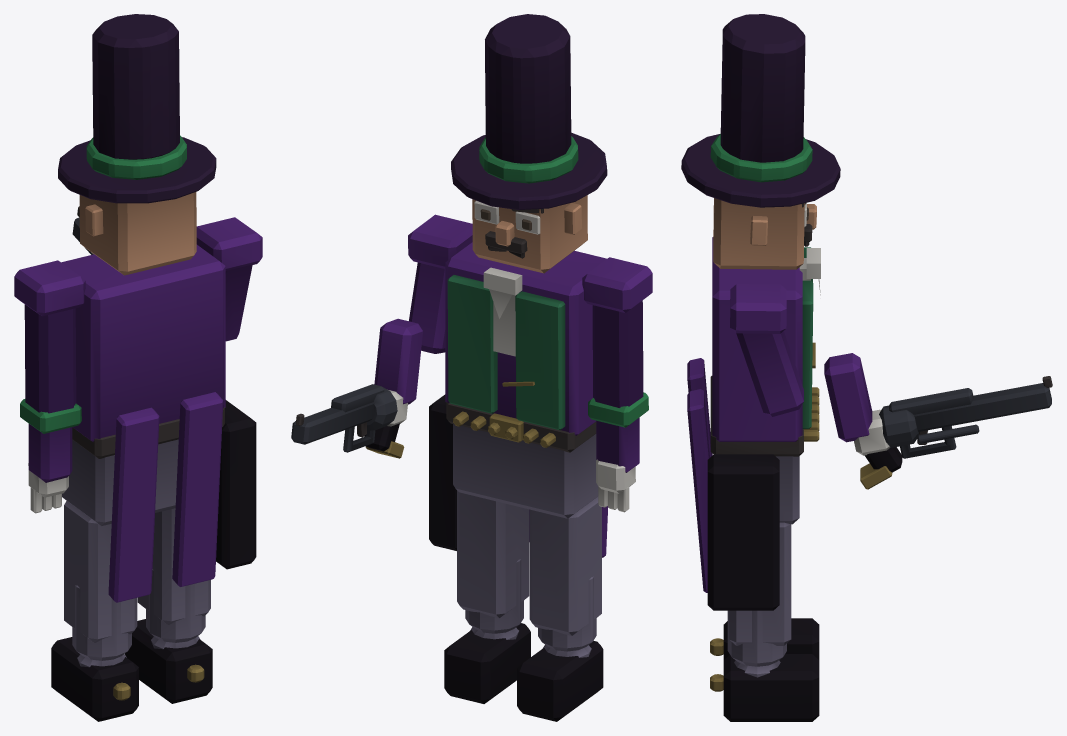
File: cowboy_dandy.glb
3 views of the same model, side by side, from view 1: azimuth 30°, elevation 25°; view 2: azimuth 150°, elevation 25°; view 3: azimuth 270°, elevation 25° (orthographic).
Parts seen in each view (by area): view 1: O_Torso, O_Hat, O_Pelvis, O_Sleeve_L, O_CoatTail_L, O_CoatTail_R, O_Leg_L, O_Head, O_Leg_R, O_Shin_L, O_Shin_R, O_Sleeve_R (+1 smaller); view 2: O_Torso, O_Hat, O_Pelvis, O_Leg_L, O_Leg_R, O_Sleeve_L, O_Head, O_Shin_L, O_Shin_R, O_Frame, O_Fore_R, O_Sleeve_R (+1 smaller); view 3: O_Hat, O_Pelvis, O_Torso, O_Frame, O_Head, O_Shin_R, O_Leg_R, O_Fore_R, O_Sleeve_R, O_CoatTail_R, O_Shin_L, O_CoatTail_L.
Part boxes in pixels (<box>): O_Torso: <box>14,217,262,441</box>; O_Hat: <box>58,14,216,203</box>; O_Pelvis: <box>62,400,256,569</box>; O_Sleeve_L: <box>24,304,76,513</box>; O_CoatTail_L: <box>108,407,159,602</box>; O_CoatTail_R: <box>172,392,223,586</box>; O_Leg_L: <box>64,501,137,660</box>; O_Head: <box>79,192,196,275</box>; O_Leg_R: <box>137,508,210,642</box>; O_Shin_L: <box>51,637,138,721</box>; O_Shin_R: <box>125,619,212,703</box>; O_Sleeve_R: <box>225,265,252,341</box>; O_Torso: <box>408,214,652,435</box>; O_Hat: <box>451,14,607,209</box>; O_Pelvis: <box>429,394,598,550</box>; O_Leg_L: <box>529,496,601,651</box>; O_Leg_R: <box>457,490,529,633</box>; O_Sleeve_L: <box>592,300,643,512</box>; O_Head: <box>472,195,587,273</box>; O_Shin_L: <box>517,640,603,721</box>; O_Shin_R: <box>444,623,530,703</box>; O_Frame: <box>291,384,404,458</box>; O_Fore_R: <box>374,318,422,426</box>; O_Sleeve_R: <box>409,262,445,353</box>; O_Hat: <box>681,14,840,207</box>; O_Pelvis: <box>707,376,819,610</box>; O_Torso: <box>712,237,820,441</box>; O_Frame: <box>860,376,1052,489</box>; O_Head: <box>713,198,816,269</box>; O_Shin_R: <box>710,654,819,721</box>; O_Leg_R: <box>727,522,791,666</box>; O_Fore_R: <box>824,353,890,455</box>; O_Sleeve_R: <box>736,331,803,416</box>; O_CoatTail_R: <box>687,389,709,592</box>; O_Shin_L: <box>710,618,819,659</box>; O_CoatTail_L: <box>687,358,712,457</box>.
Bounding box in the file's own units: 0.92 × 2.62 × 1.32.
